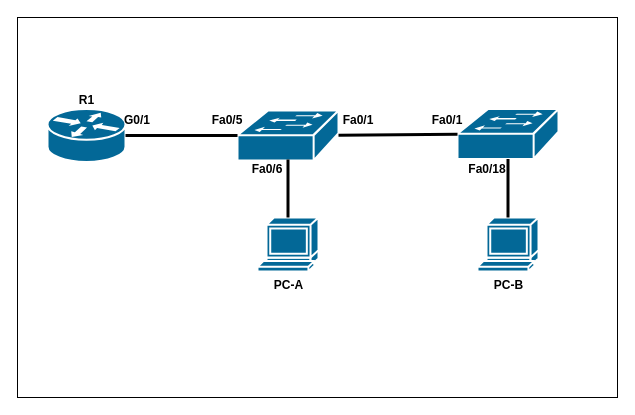
Some shapes in this 635 by 415 pixel diagram are drawn without their labels. Here are the shapes that lost their labels. From the top down, the box of each, then its label:
(236, 109, 339, 161): S1
(456, 108, 559, 160): S2
